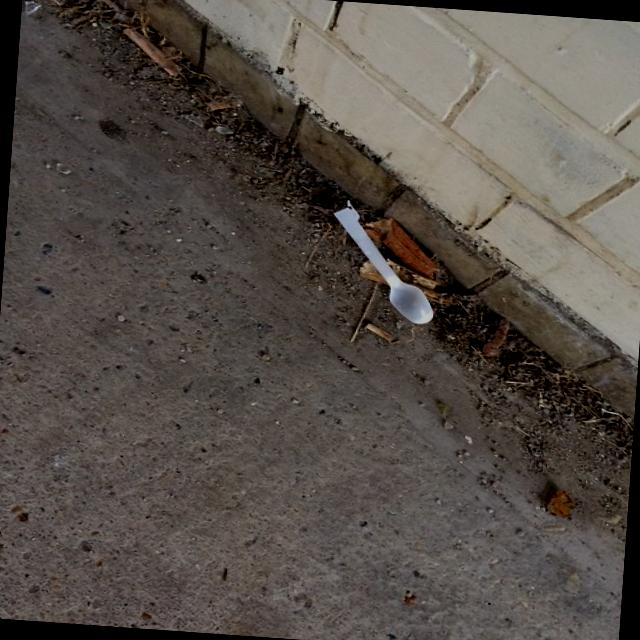Recycle: (326, 205, 442, 328)
